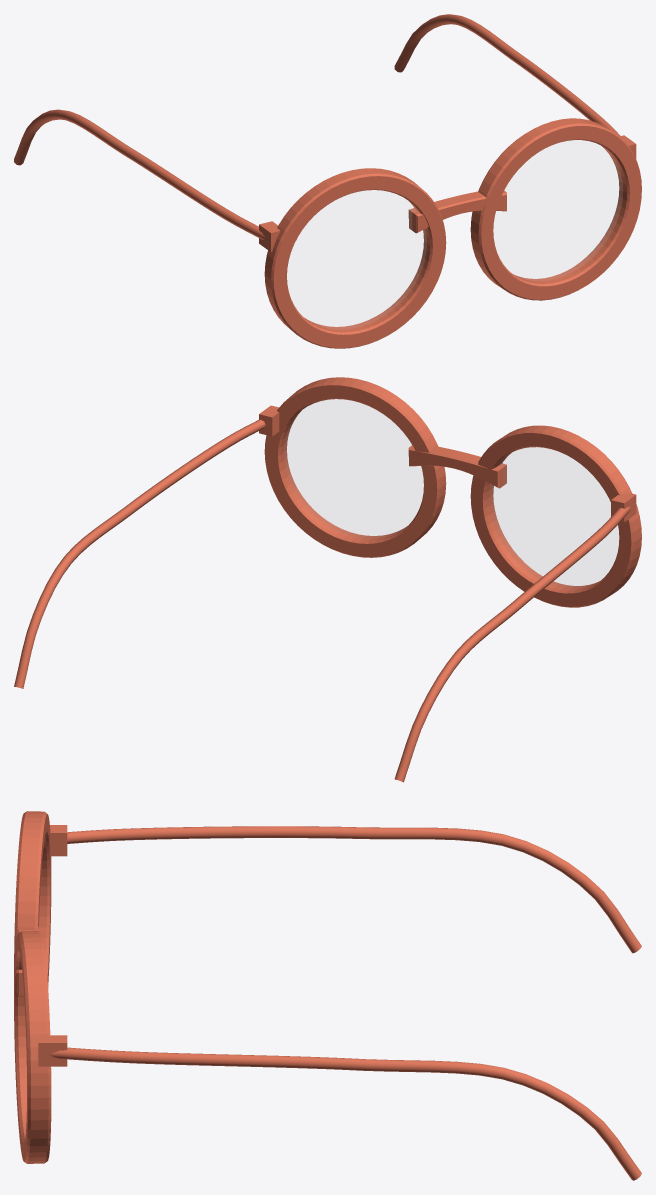
The model's file is BM-K01_Pip_Coral.glb.
The picture shows the model from 3 angles, top to bottom: view 1: azimuth 30°, elevation 25°; view 2: azimuth 150°, elevation 25°; view 3: azimuth 270°, elevation 25°; orthographic projection. The views are drawn at different scales.
Parts seen in each view (by area): view 1: Pip_Coral_Acetate, Pip_Coral_Lenses; view 2: Pip_Coral_Acetate, Pip_Coral_Lenses; view 3: Pip_Coral_Acetate.
Part boxes in pixels (left/top/right/bottom): Pip_Coral_Acetate: left=14, top=14, right=641, bottom=348; Pip_Coral_Lenses: left=287, top=140, right=622, bottom=328; Pip_Coral_Acetate: left=14, top=377, right=641, bottom=782; Pip_Coral_Lenses: left=284, top=399, right=618, bottom=587; Pip_Coral_Acetate: left=14, top=811, right=641, bottom=1180.
Size of the model in its own units: 0.1241 by 0.0508 by 0.138.
